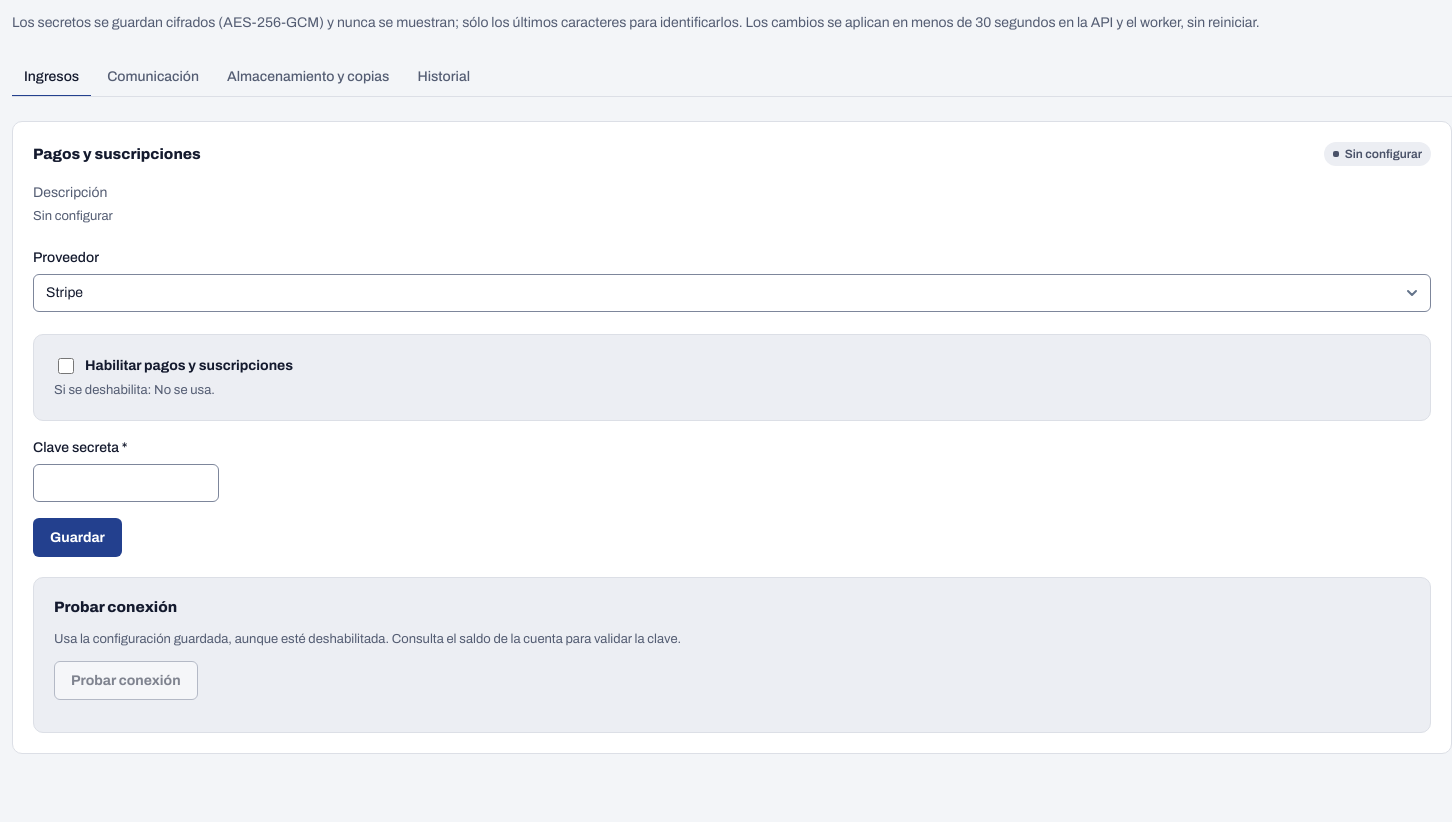
Test: pantalla de integraciones › agrupa las categorías cuando la API envía el grupo
Expected: the tab "Ingresos" is shown, [12,57,91,97]
Expected: the number of buttons "Guardar" is 1, [33,518,122,557]
Click the tab "Comunicación" at [153, 77], box [95,57,211,97]
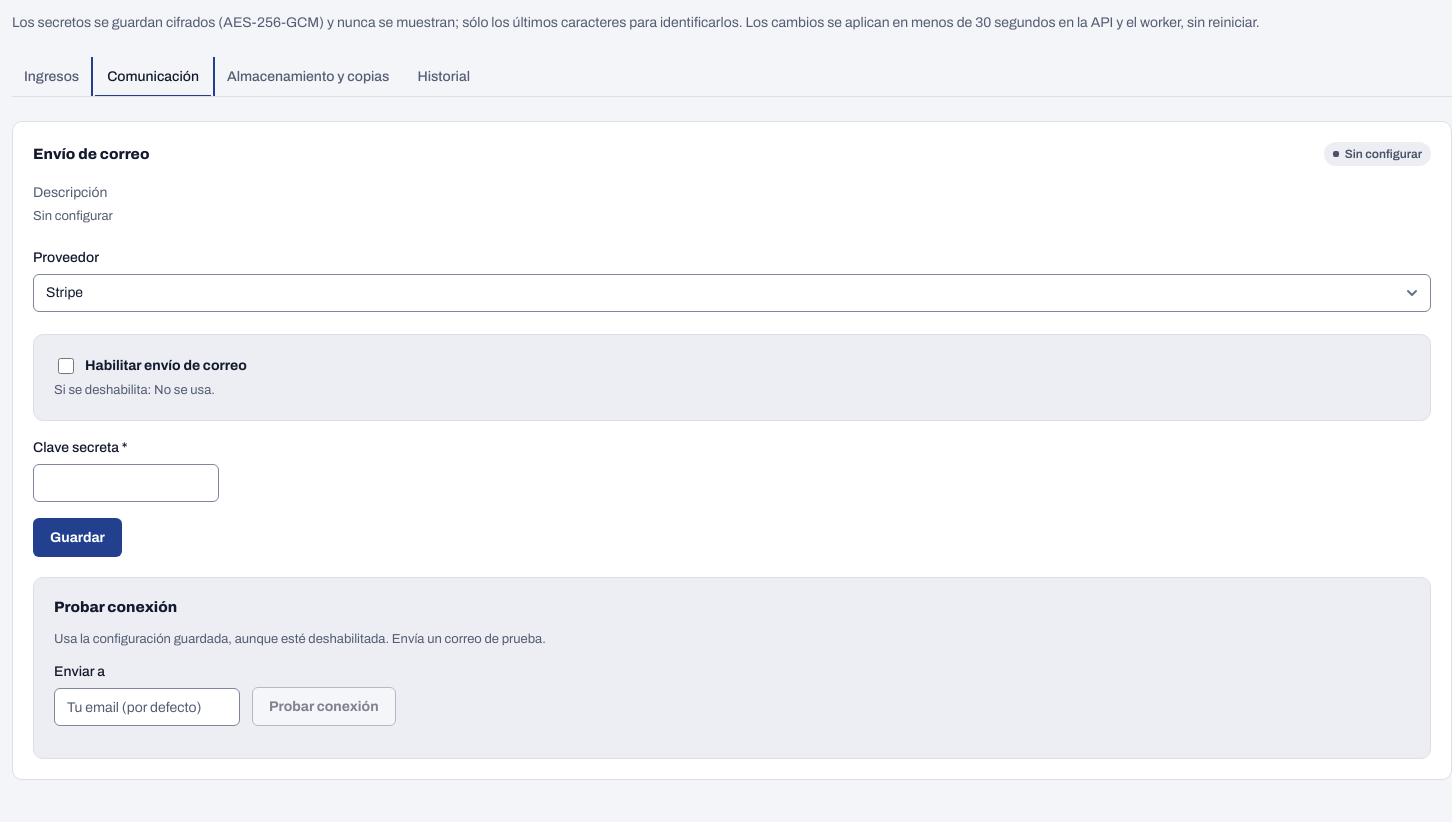
Now the heading "Envío de correo" is shown, box [33,145,149,163]
